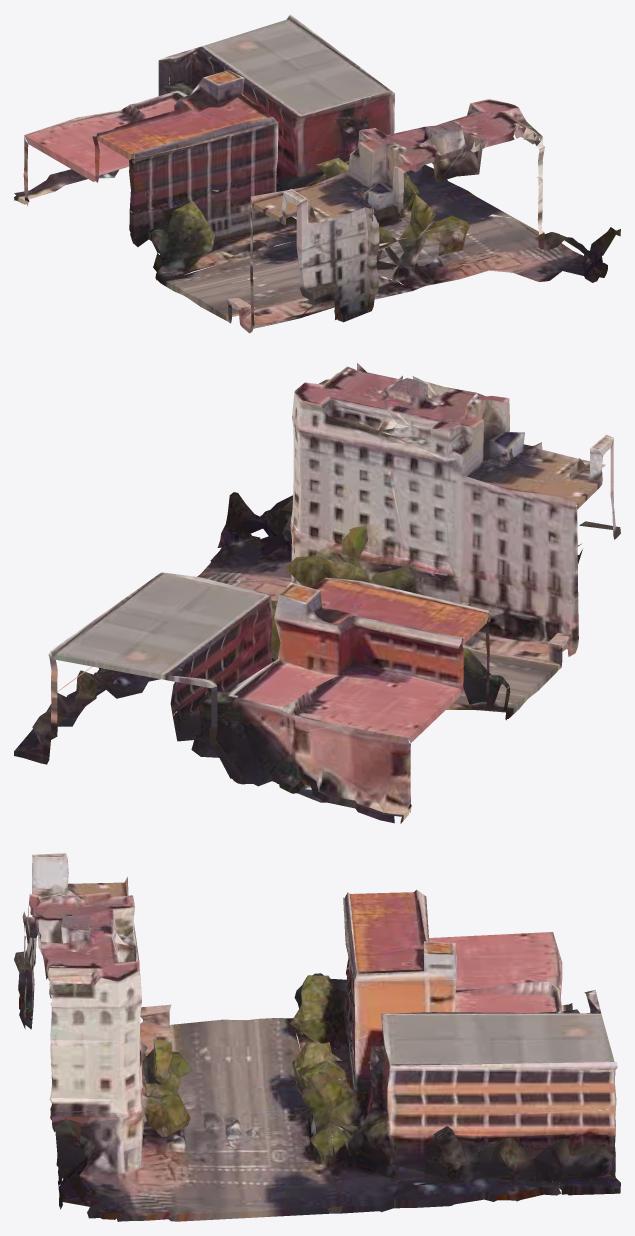
3 views of the same model, one above another, from view 1: azimuth 30°, elevation 25°; view 2: azimuth 150°, elevation 25°; view 3: azimuth 270°, elevation 25° (orthographic). The views are drawn at different scales.
Parts seen in each view (by area): view 1: Mesh_0; view 2: Mesh_0; view 3: Mesh_0.
Part boxes in pixels (left/top/right/bottom): Mesh_0: left=14, top=14, right=620, bottom=333; Mesh_0: left=14, top=363, right=620, bottom=823; Mesh_0: left=14, top=853, right=620, bottom=1221.
Bounding box in the file's own units: 67.48 × 32.51 × 82.55.
2 materials, 2 textured.
